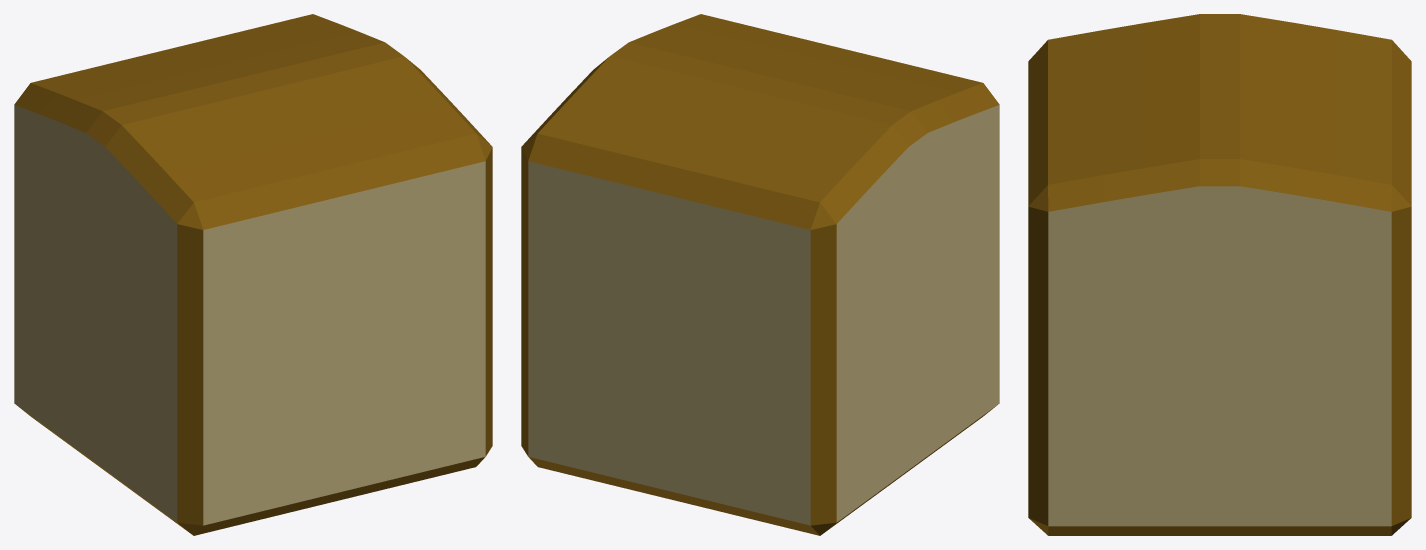
File: FruitCake.fbx
The picture shows the model from 3 angles, left to right: view 1: azimuth 30°, elevation 25°; view 2: azimuth 150°, elevation 25°; view 3: azimuth 270°, elevation 25°; orthographic projection. The views are drawn at different scales.
Visible parts, largest first — view 1: Fruitcake; view 2: Fruitcake; view 3: Fruitcake.
Part boxes in pixels (bbox=[...]): Fruitcake: bbox=[14, 14, 492, 535]; Fruitcake: bbox=[521, 14, 999, 535]; Fruitcake: bbox=[1028, 14, 1411, 535].
Bounding box in the file's own units: 200 × 217 × 200.
